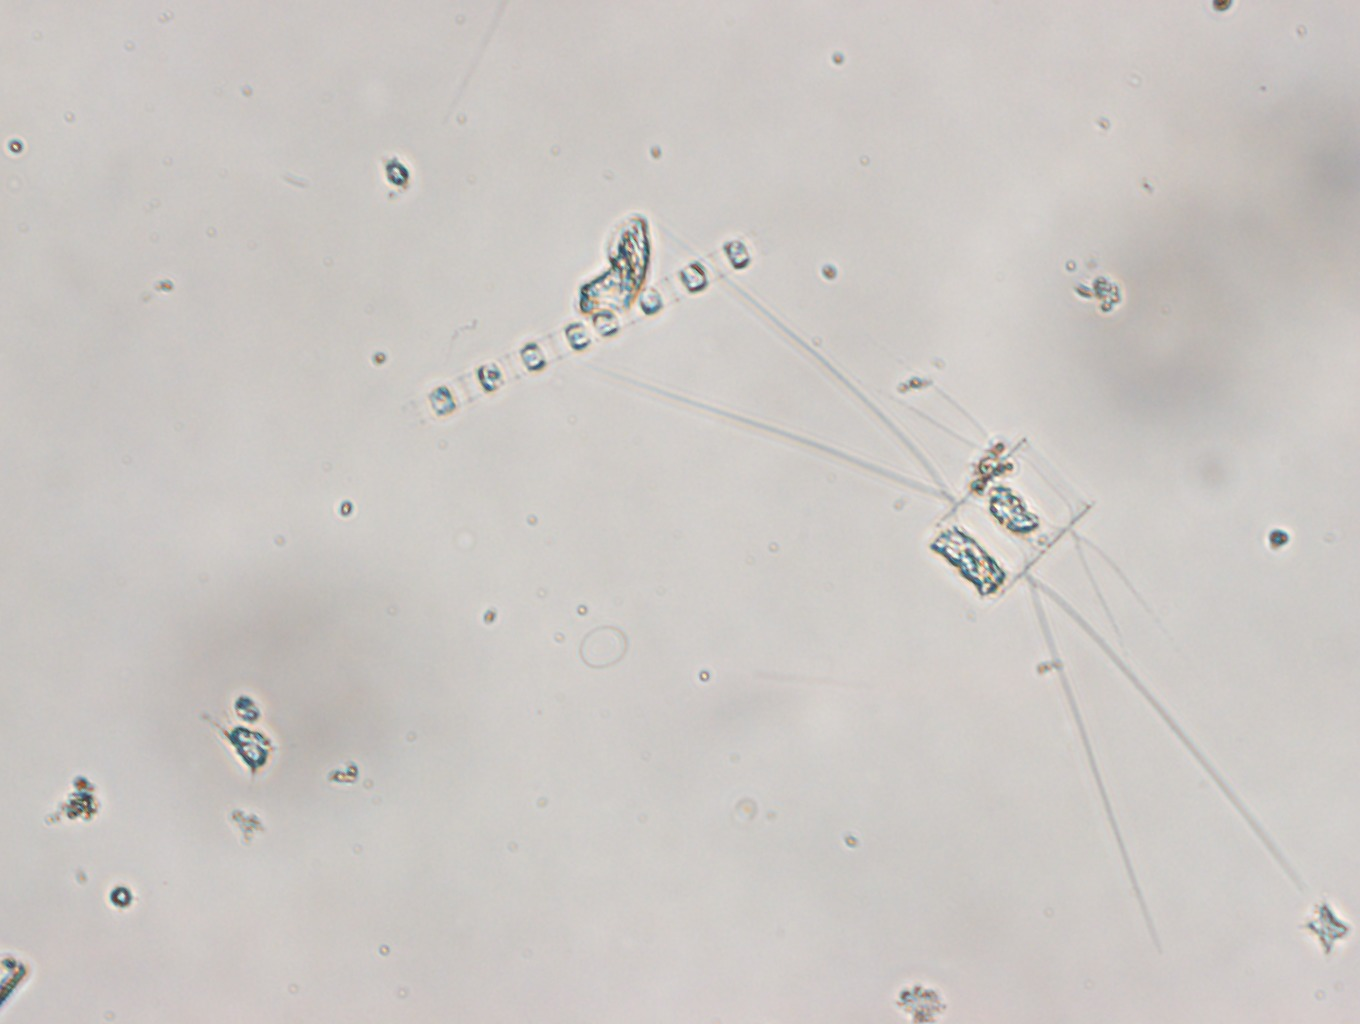chaetoceros: (582, 217, 1301, 940)
skeletonema: (398, 234, 760, 430)
